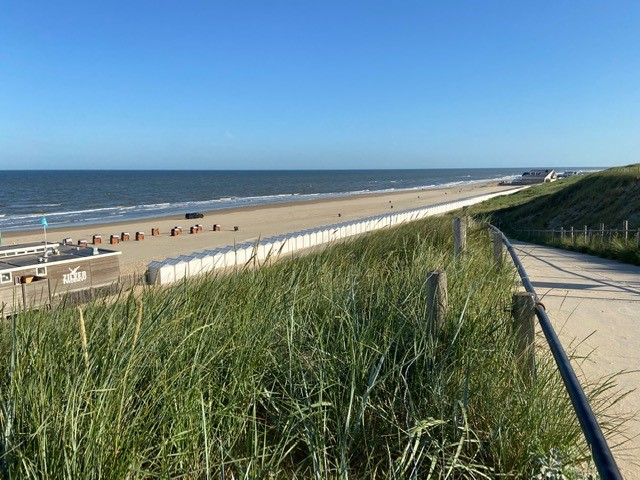pad: (484, 219, 640, 474)
